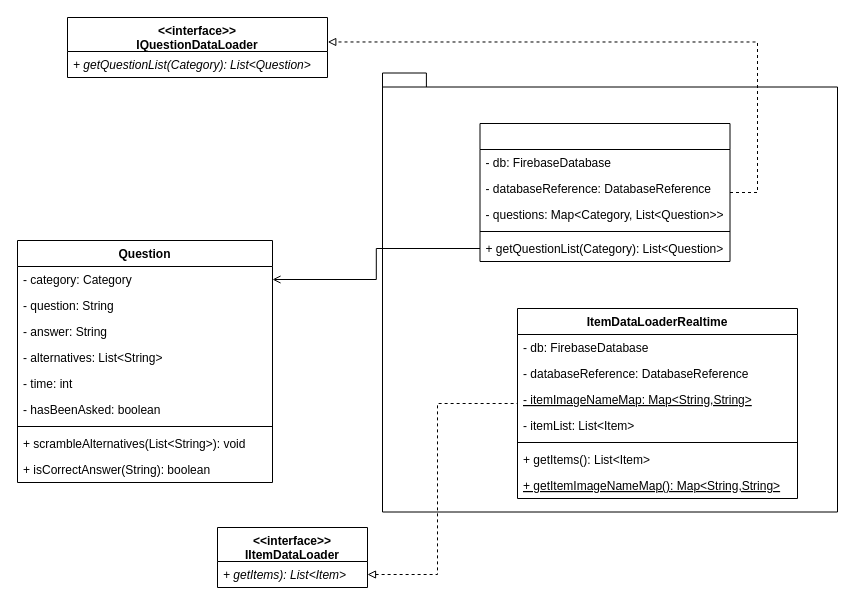
Image size: 855x608. Some labels were removed from this diagram. Each missing label, with the box of its shape:
databaseService: (382, 72, 838, 512)
QuestionDataLoaderRealtime: (479, 122, 730, 262)
